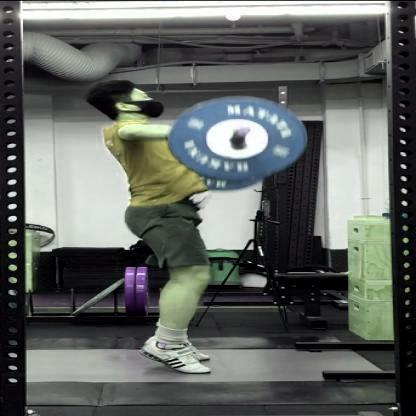Barbell: (231, 125, 254, 138)
